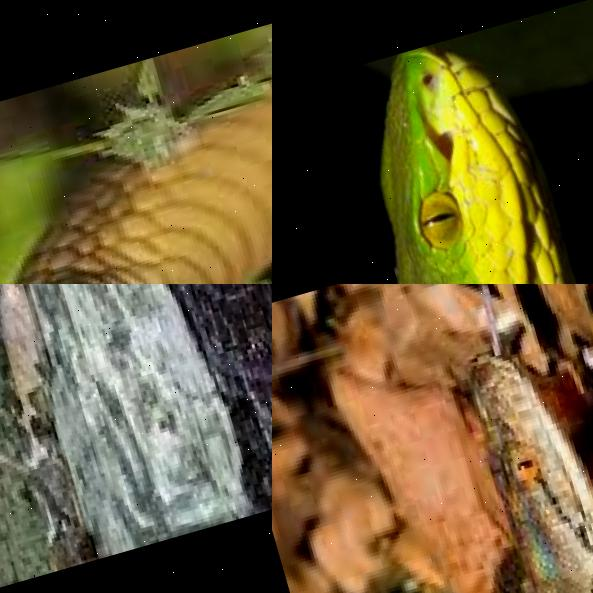snake: (272, 284, 593, 593), (0, 284, 272, 582), (313, 0, 593, 284), (0, 0, 272, 284)
